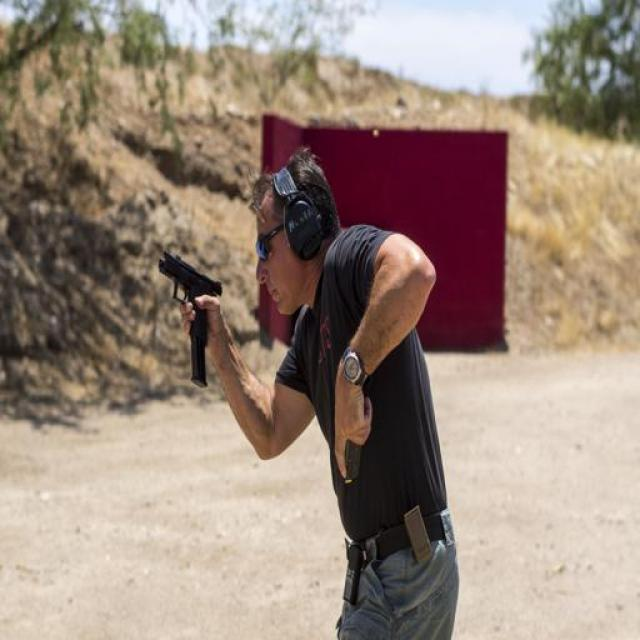pistol: (155, 246, 222, 346)
